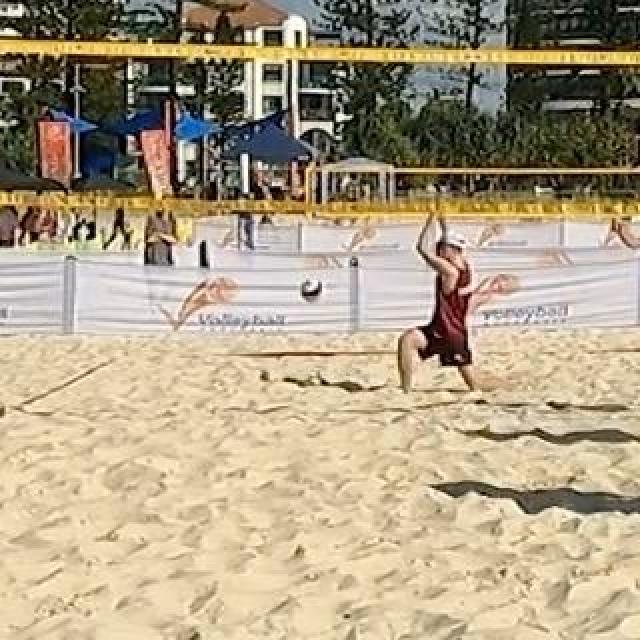volleyball: (301, 280, 321, 302)
